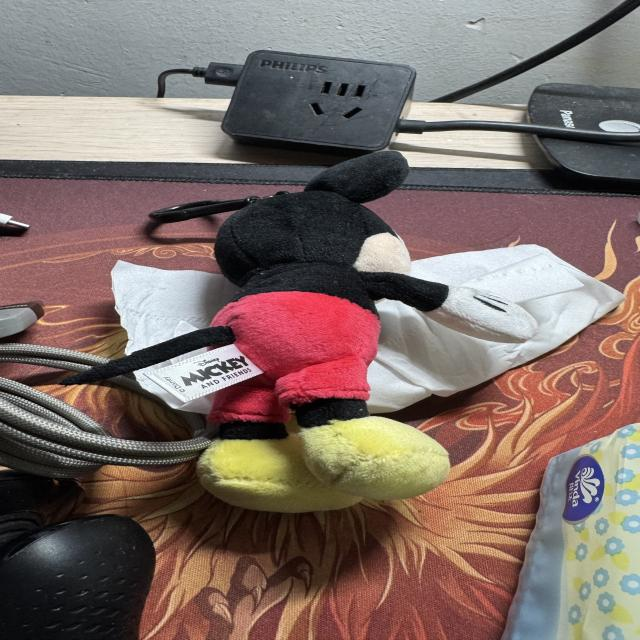mickey: (63, 152, 537, 512)
